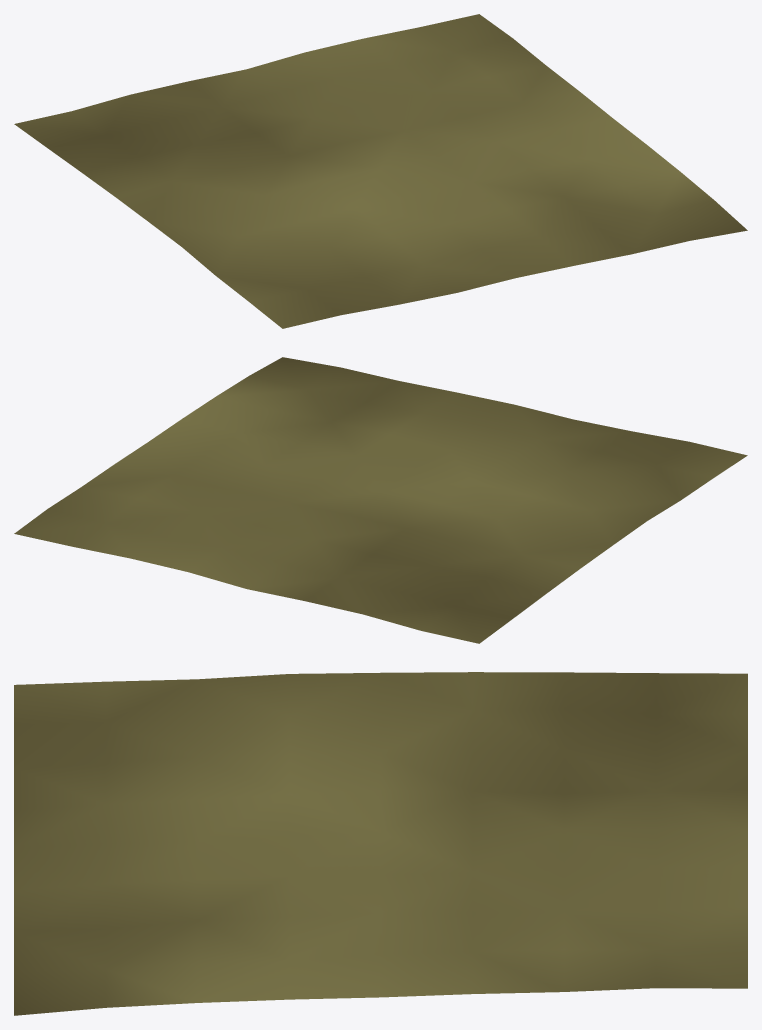
File: terrain_lod2_4_2.obj
The picture shows the model from 3 angles, top to bottom: view 1: azimuth 30°, elevation 25°; view 2: azimuth 150°, elevation 25°; view 3: azimuth 270°, elevation 25°; orthographic projection. The views are drawn at different scales.
Parts seen in each view (by area): view 1: terrain_lod2_4_2; view 2: terrain_lod2_4_2; view 3: terrain_lod2_4_2.
Boxes of the visible parts, x1,y1,x2,y2 form: terrain_lod2_4_2: [14, 14, 747, 328]; terrain_lod2_4_2: [14, 357, 747, 643]; terrain_lod2_4_2: [14, 672, 747, 1015].
Bounding box in the file's own units: 128 × 6.81 × 128.
